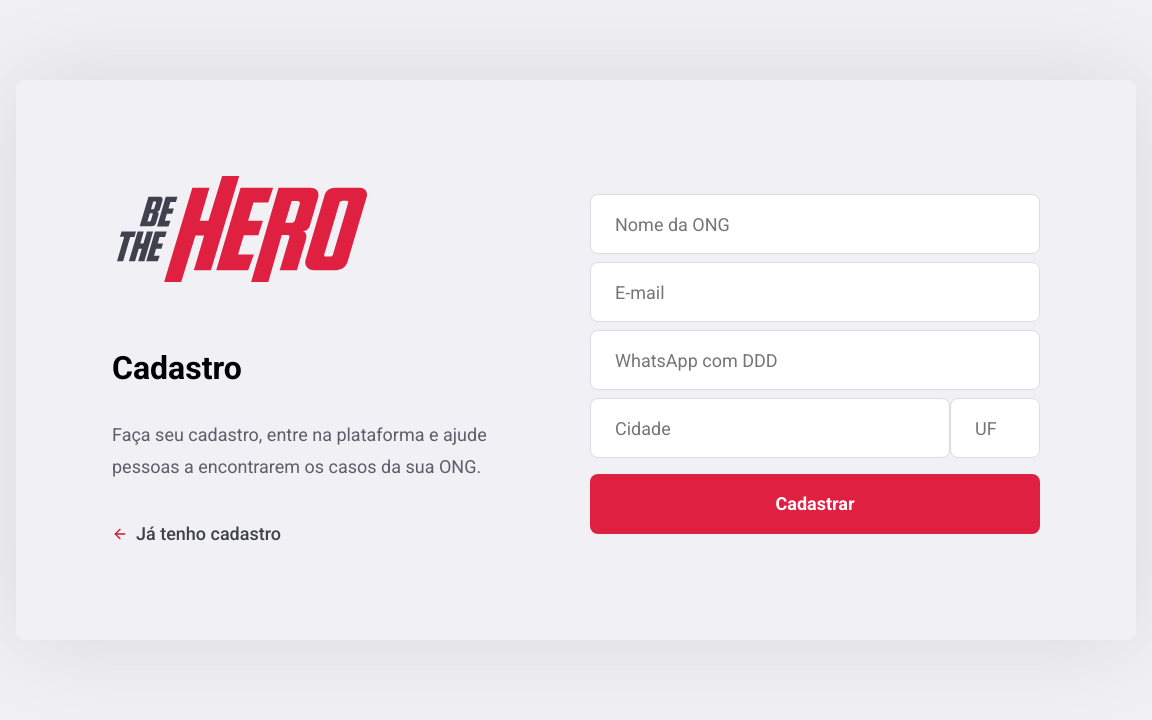
Test case: cadastro e logon › erros de validação da API aparecem no formulário
The width and height of the screenshot is (1152, 720).
Click the button "Cadastrar": point(815, 504) [590, 474, 1040, 534]
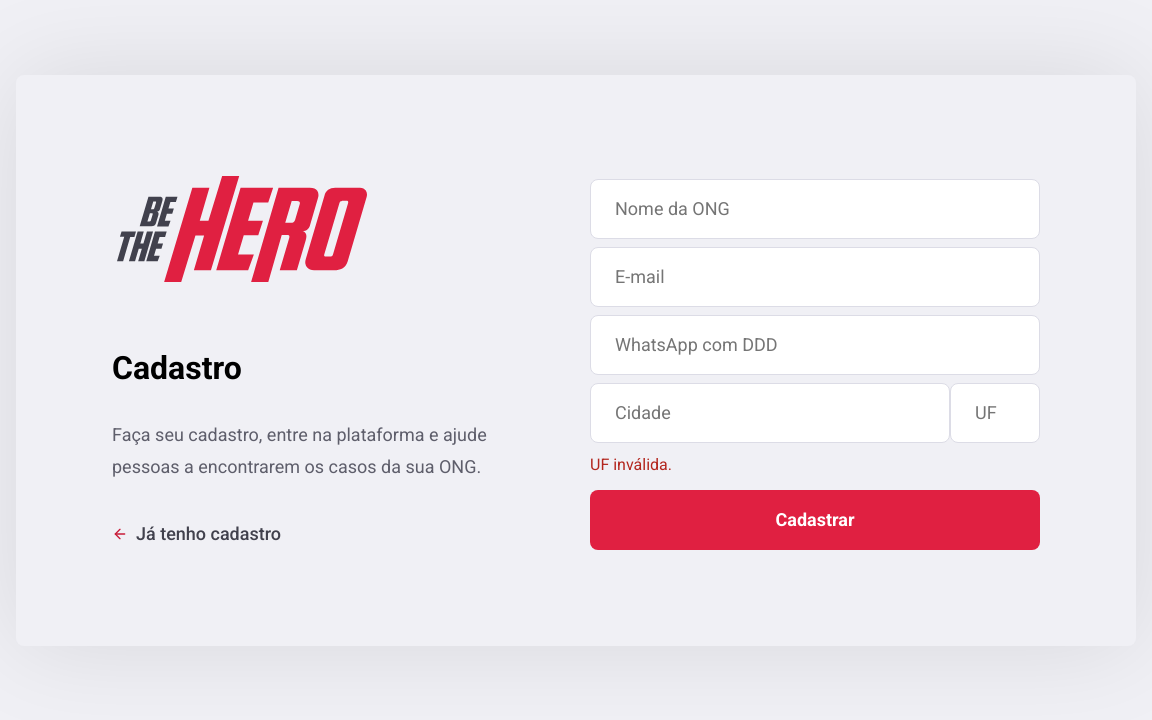
Check: the message reads "UF inválida.", box [590, 454, 672, 474]
